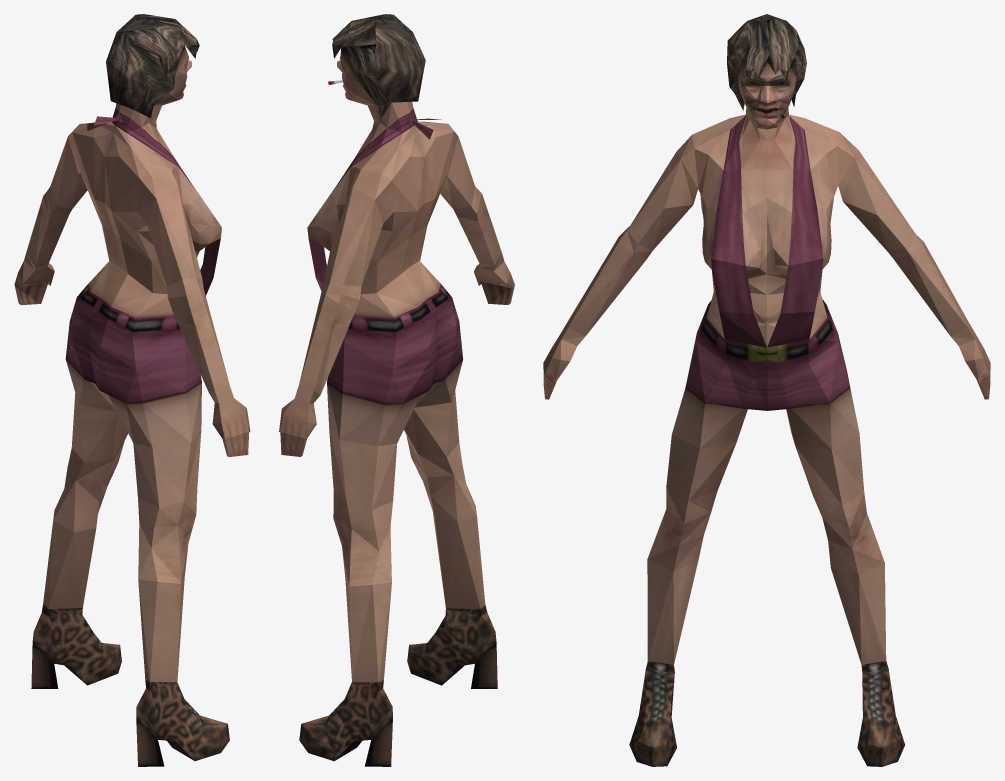
The model's file is swfopro.obj.
3 views of the same model, side by side, from view 1: azimuth 30°, elevation 25°; view 2: azimuth 150°, elevation 25°; view 3: azimuth 270°, elevation 25° (orthographic). The views are drawn at different scales.
Visible parts, largest first — view 1: _Pelvis; view 2: _Pelvis; view 3: _Pelvis.
Part boxes in pixels (x1,y1,x2,y2): _Pelvis: (14,14,250,766); _Pelvis: (279,14,514,766); _Pelvis: (543,14,990,766).
Bounding box in the file's own units: 0.3083 × 1.79 × 0.9791.
Materials: 1 (1 with a texture image).
